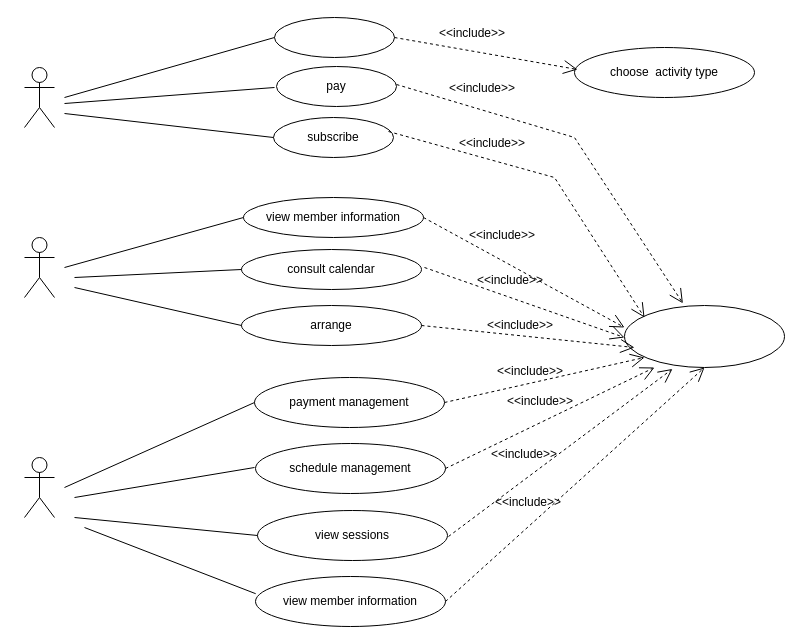
Image size: 802x644. Some labels were removed from this diagram. The box of each missing label's shape, as (x1, y1, x2, y2) in pixels:
admin: (24, 456, 54, 518)
authenticate: (624, 304, 784, 368)
coach: (24, 236, 54, 298)
membre: (24, 66, 54, 128)
register: (274, 16, 394, 58)
